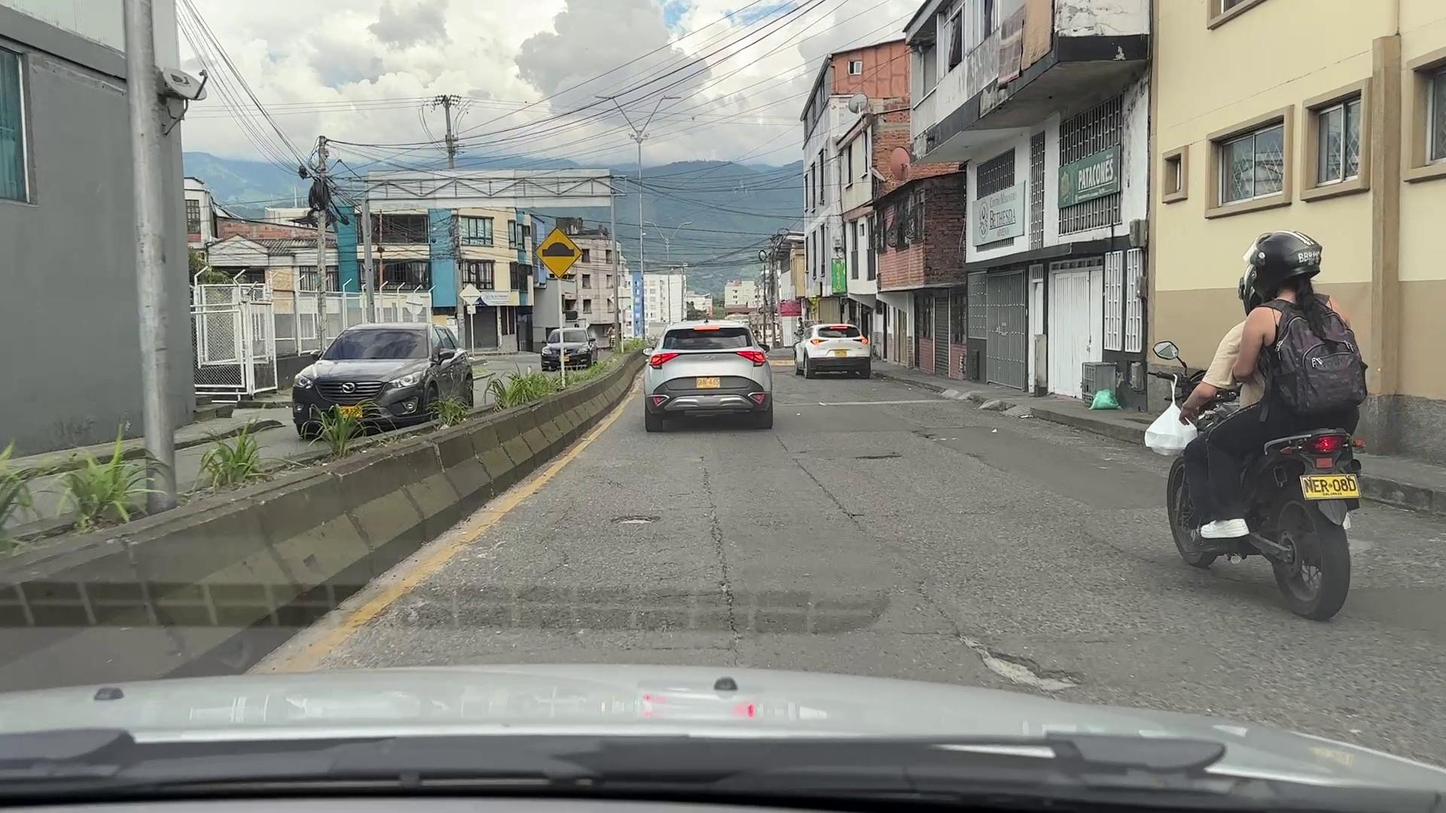bache: (960, 636, 1078, 692), (856, 452, 901, 459), (618, 517, 655, 524)
grieta: (704, 472, 739, 634)
